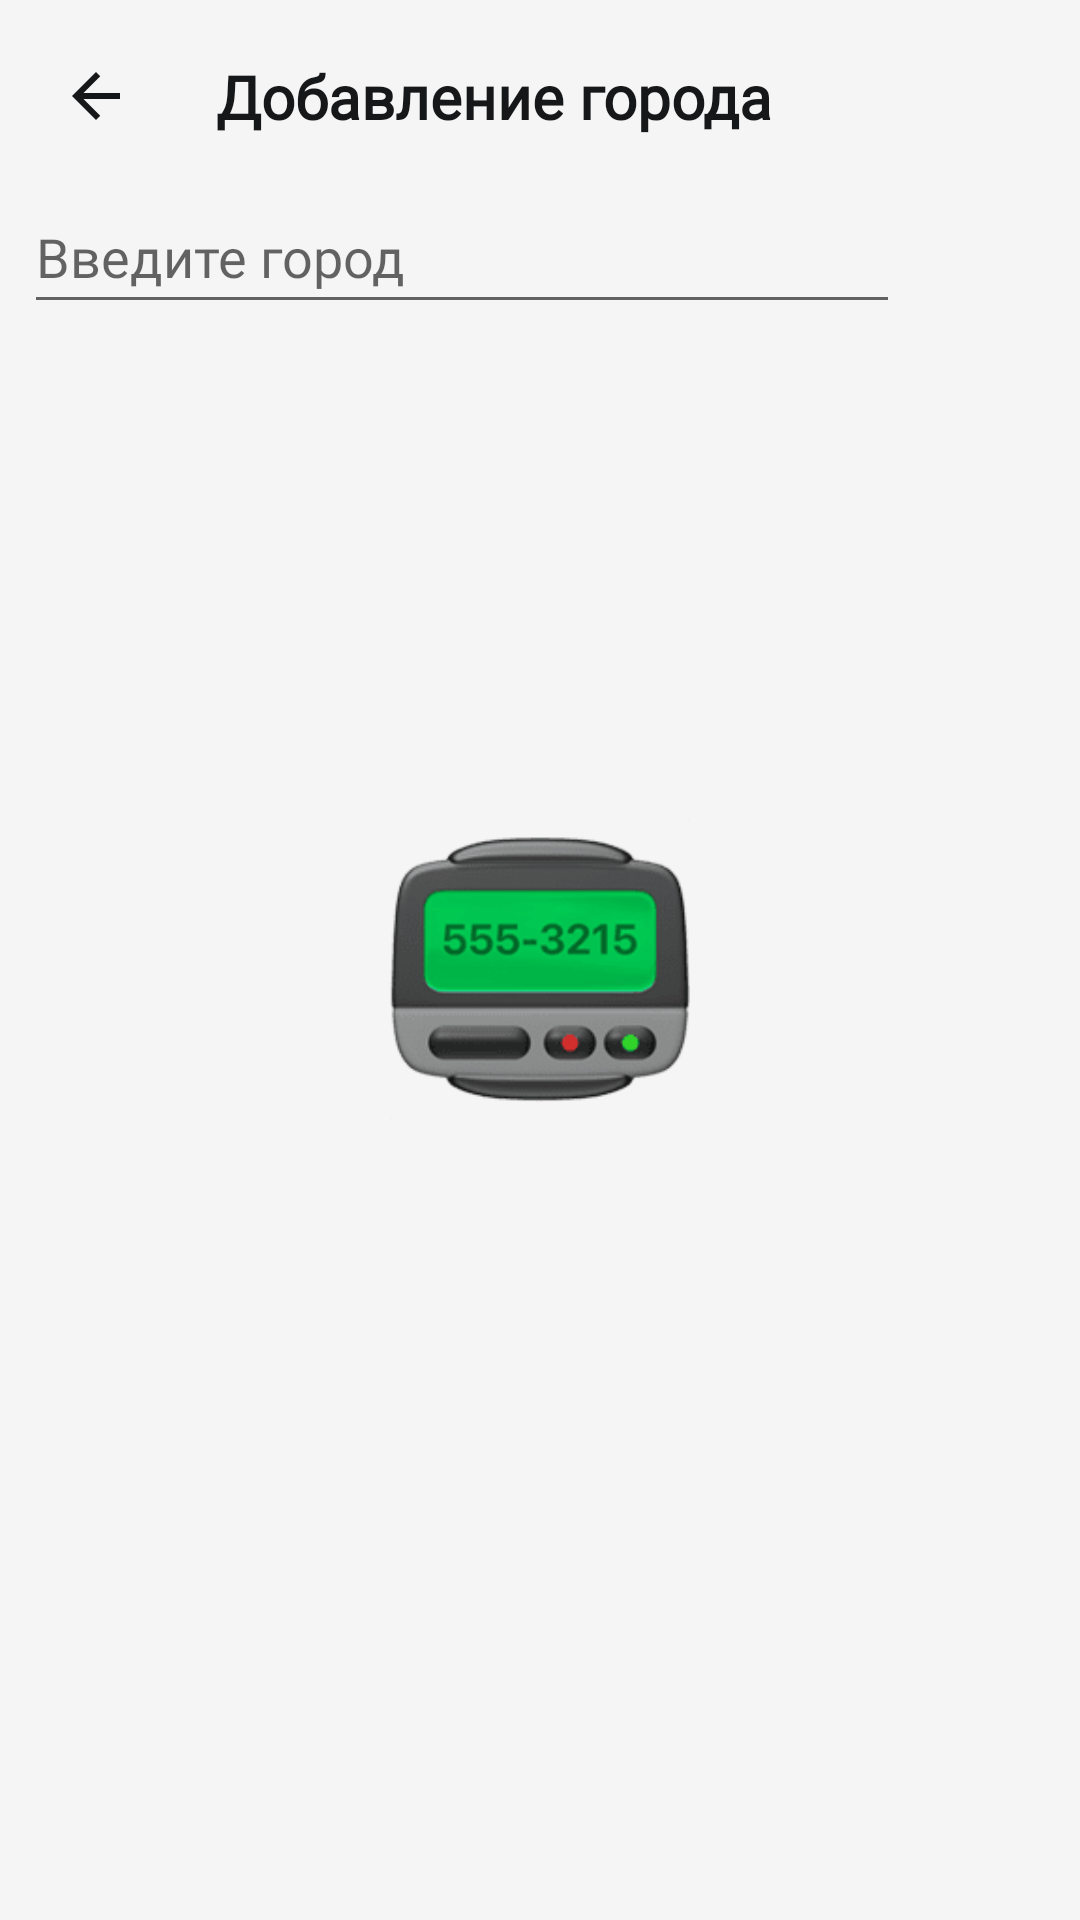

Icon bounding boxes for this 1080px×1920px phone screenshot, format (x1, y1, x2, y2):
arrow back: (72, 72, 120, 120)
